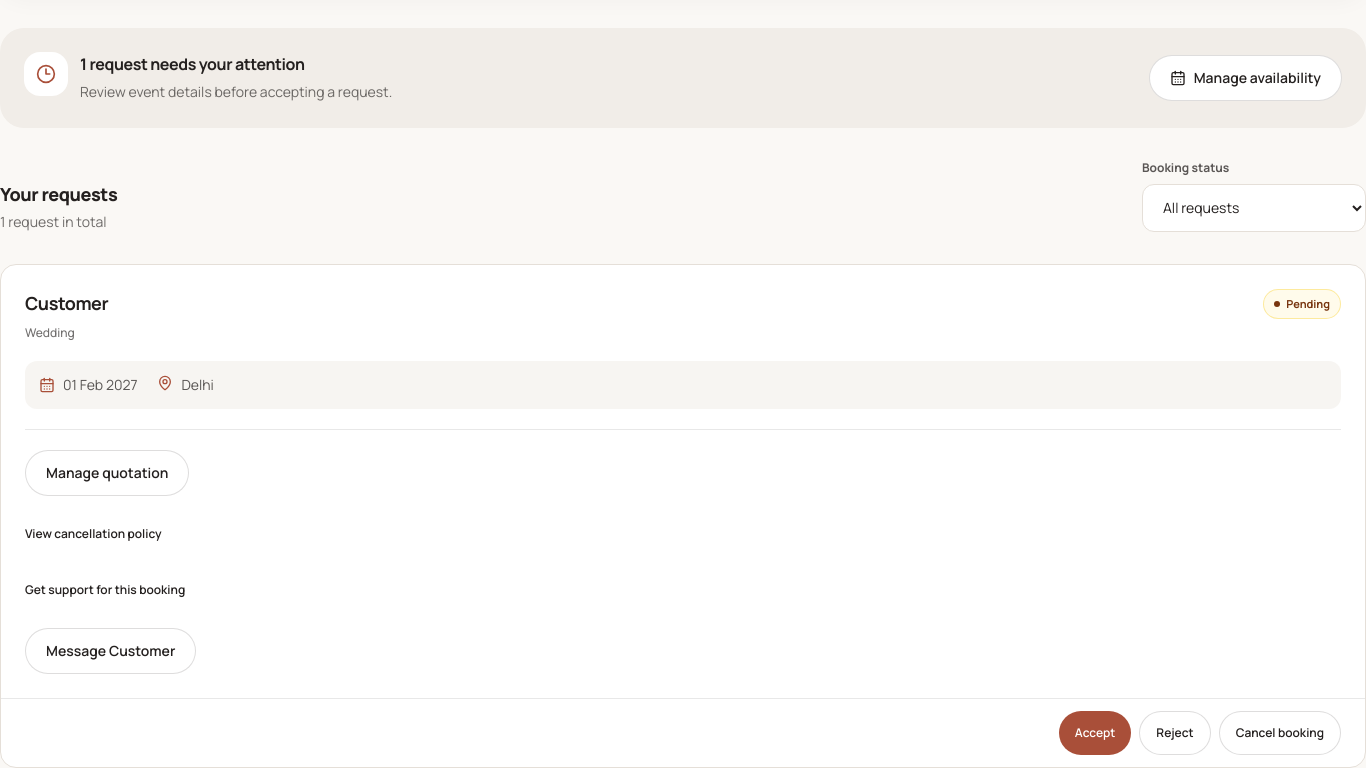
Test: vendor booking management › sends the Reject transition for a pending request
The width and height of the screenshot is (1366, 768).
(page scrolled)
Click the button "Reject" at (1175, 733), box [1139,711,1211,755]
(page scrolled)
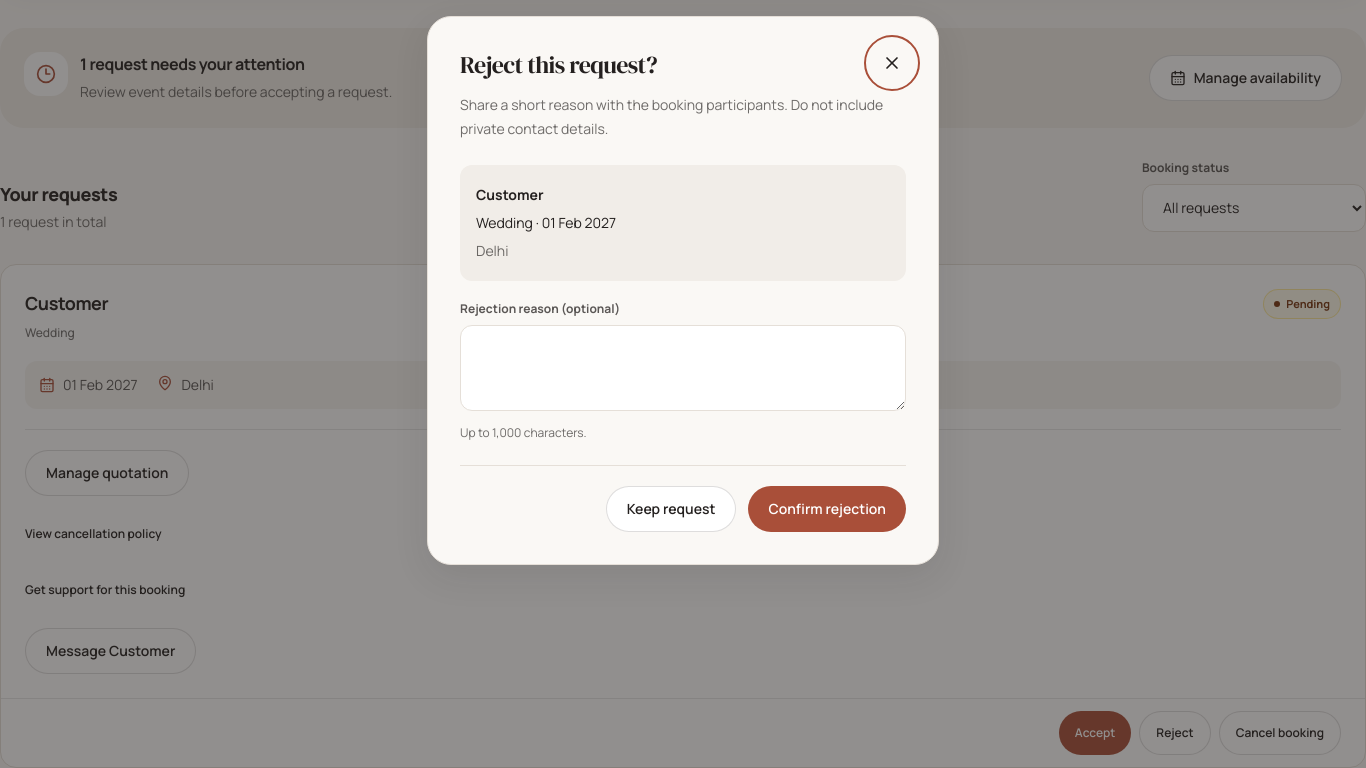
Click the button "Confirm rejection" at (827, 509), box [748,486,906,532]
(page scrolled)
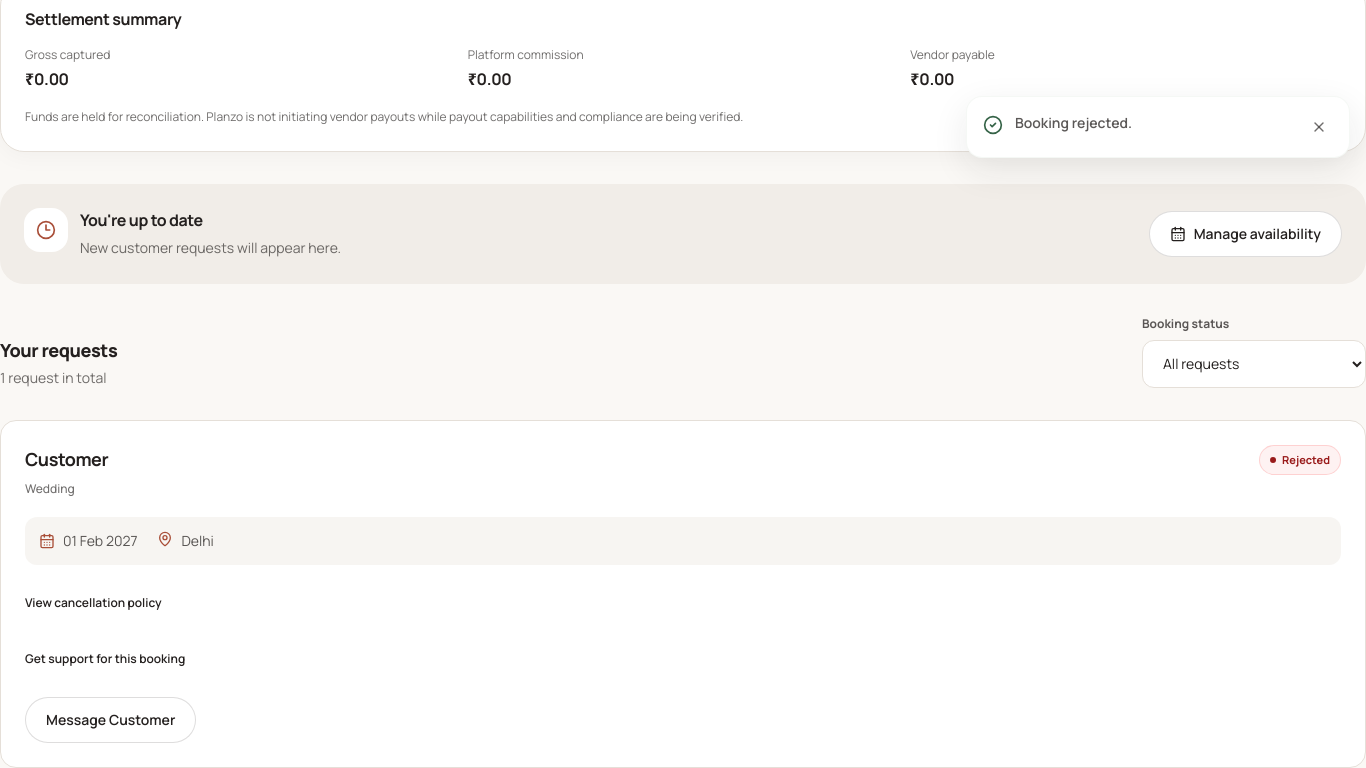
Expected: the text "rejected" is shown, [1259,444,1341,475]
